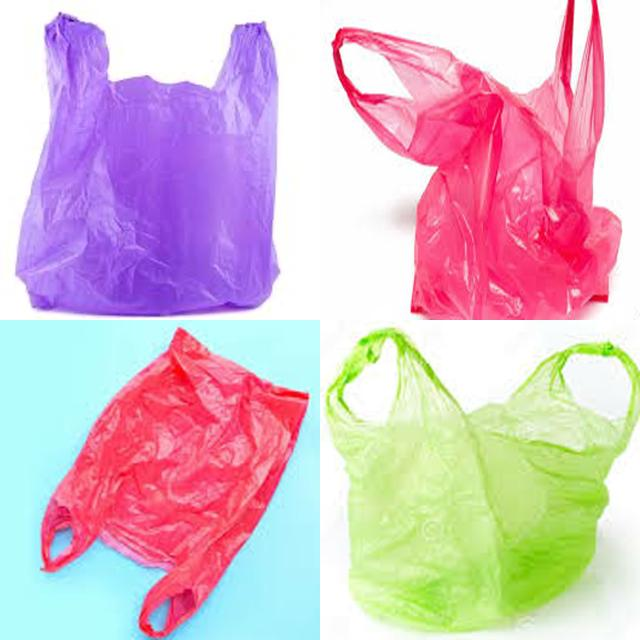Single-layer Plastic: (326, 329, 640, 631), (332, 0, 621, 319), (41, 328, 309, 638), (16, 14, 279, 315)
